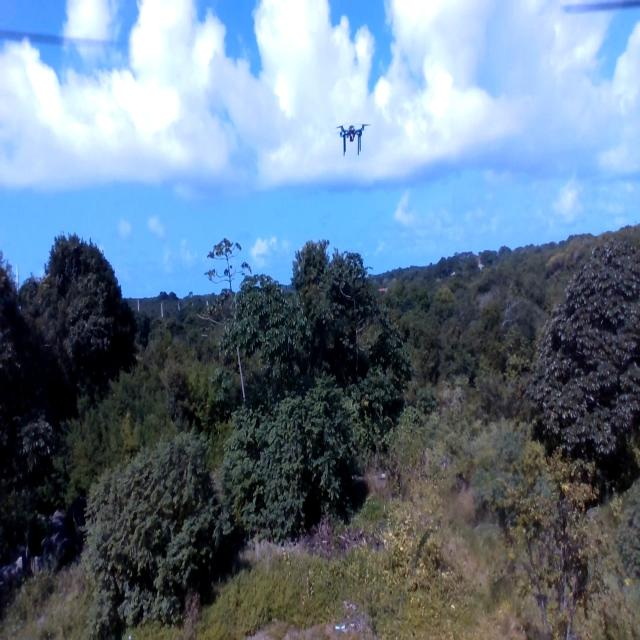-uav-: (332, 113, 373, 160)
